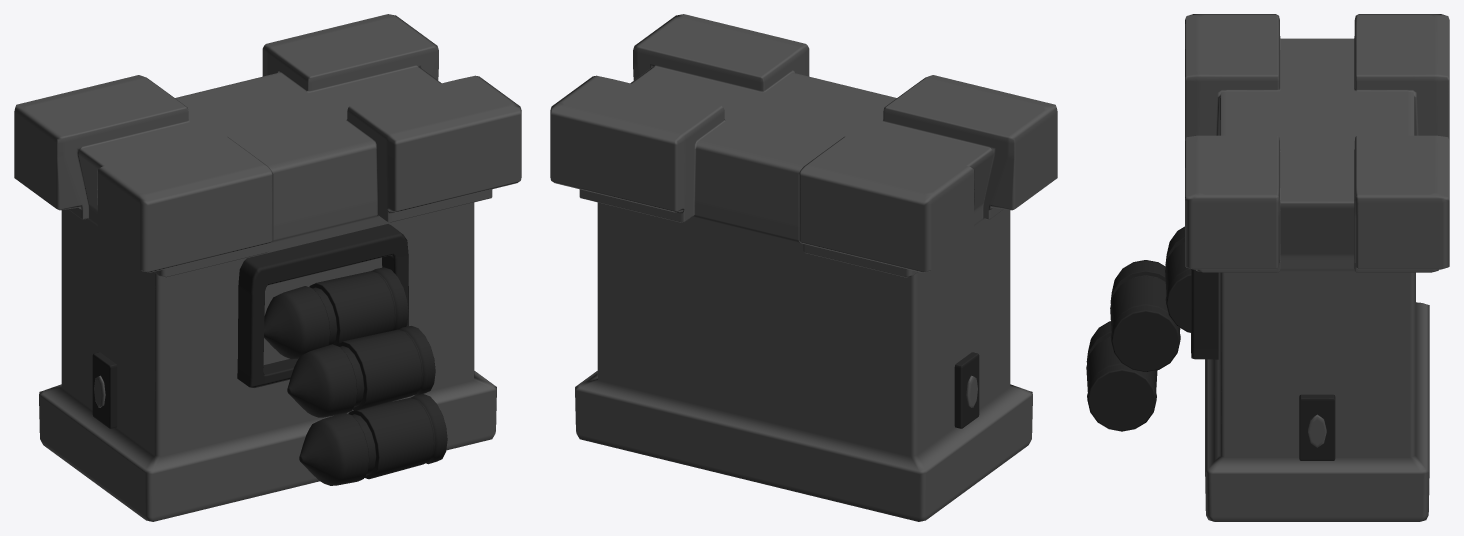
File: _Big_ammo_bonus.fbx
3 renders of one model, left to right at view 1: azimuth 30°, elevation 25°; view 2: azimuth 150°, elevation 25°; view 3: azimuth 270°, elevation 25°, orthographic.
Visible parts, largest first — view 1: Big_ammo_bonus; view 2: Big_ammo_bonus; view 3: Big_ammo_bonus.
Part boxes in pixels (<box>): Big_ammo_bonus: <box>14,14,521,521</box>; Big_ammo_bonus: <box>550,14,1057,521</box>; Big_ammo_bonus: <box>1086,14,1449,521</box>.
Size of the model in its own units: 98.71 by 82.6 by 81.73.
1 material, 1 textured.
